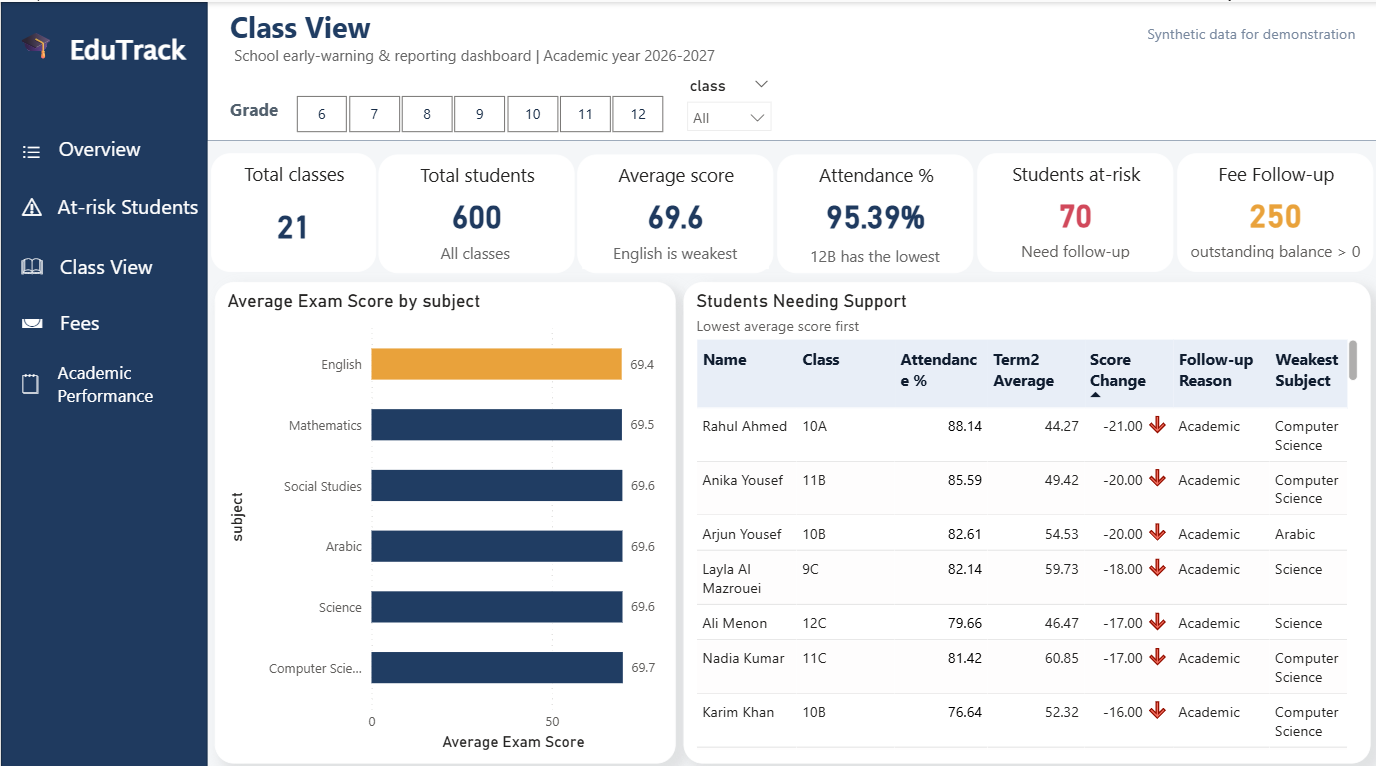

The dashboard page shown, as its layout file describes it:
{"tool":"powerbi","page":{"name":"class view","canvas":[1280,720],"ordinal":2},"visuals":[{"type":"shape","box":[192.1,0,1087.9,128.5],"z":0},{"type":"textbox","box":[58.8,22.5,137.5,52.5],"z":0,"group":"g4"},{"type":"textbox","box":[48.8,118.4,112.5,40],"z":0,"group":"g3"},{"type":"textbox","box":[47.6,172.5,187.5,38.8],"z":0,"group":"g1"},{"type":"textbox","box":[50.1,227.8,150,38.8],"z":0,"group":"g2"},{"type":"textbox","box":[49.8,280,62.5,45],"z":0,"group":"g5"},{"type":"textbox","box":[8.8,15,58.8,46.2],"z":1000,"group":"g4"},{"type":"textbox","box":[1061.6,15.3,218.4,36.2],"z":1000},{"type":"textbox","box":[0,124.6,58.8,33.8],"z":1000,"group":"g3"},{"type":"textbox","box":[8.8,170,50,52.5],"z":1000,"group":"g1"},{"type":"textbox","box":[12.6,227.8,42.5,43.8],"z":1000,"group":"g2"},{"type":"textbox","box":[12.3,270,53.8,57.5],"z":1000,"group":"g5"},{"type":"shape","box":[0,0,192.2,720.3],"z":2000},{"type":"group","id":"g1","title":"Group 1","box":[8.8,170,226.2,52.5],"z":3000},{"type":"group","id":"g2","title":"Group 2","box":[12.6,227.8,187.5,43.8],"z":4000},{"type":"group","id":"g3","title":"Group 3","box":[0,118.4,161.2,40],"z":5000},{"type":"group","id":"g4","title":"Group 4","box":[8.8,15,187.5,60],"z":6000},{"type":"group","id":"g5","title":"Group 5","box":[12.3,270,100,57.5],"z":7000},{"type":"slicer","fields":{"Values":["view_student_warning.grade"]},"box":[248.6,80.5,391.4,48],"z":8000},{"type":"textbox","box":[208,0,688,64],"z":9000},{"type":"textbox","box":[208,64,64,64],"z":10000},{"type":"actionButton","box":[12,117.7,138.1,39.6],"z":11000},{"type":"actionButton","box":[8.4,171.1,183.8,40.1],"z":12000},{"type":"actionButton","box":[9.7,279.7,132.2,40.3],"z":13000},{"type":"card","title":"Total classes","fields":{"Values":["students.Total Classes"]},"box":[195.3,140.7,153.5,110.5],"z":14000},{"type":"slicer","fields":{"Values":["students.class"]},"box":[628,63.6,98.5,63.6],"z":15000},{"type":"card","title":"Attendance %","fields":{"Values":["attendance.Attendance %"]},"box":[722.3,141.9,182.6,110.5],"z":15000,"group":"g10"},{"type":"card","title":"Students at-risk","fields":{"Values":["view_student_warning.class support needed"]},"box":[908.1,140.7,182.6,110.5],"z":16000},{"type":"card","title":"Average score","fields":{"Values":["exam_results.Average Exam Score"]},"box":[536.2,141.9,182.6,110.5],"z":17000,"group":"g8"},{"type":"clusteredBarChart","fields":{"Category":["exam_results.subject"],"Y":["exam_results.Average Exam Score"]},"box":[198.8,260.5,429.1,447.7],"z":17000},{"type":"card","title":"Fee Follow-up","fields":{"Values":["view_student_warning.Fee Follow-up Students"]},"box":[1094.2,140.7,182.6,110.5],"z":18000},{"type":"card","title":"Total students","fields":{"Values":["students.Total students"]},"box":[351.2,141.9,182.6,110.5],"z":18000,"group":"g7"},{"type":"tableEx","title":"Students Needing Support","fields":{"Values":["students.name","students.class","view_student_warning.attendance_perc","view_student_warning.term2_avg","view_student_warning.score_change","view_student_warning.Class Follow-up reason","exam_results.Student Weakest Subject"]},"box":[634.9,260.5,639.5,447.7],"z":19000},{"type":"group","id":"g6","title":"Group 7","box":[722.3,141.9,182.6,110.5],"z":20000},{"type":"group","id":"g7","title":"Group 6","box":[351.2,141.9,182.6,110.5],"z":21000},{"type":"group","id":"g8","title":"Group 8","box":[536.2,141.9,182.6,110.5],"z":22000},{"type":"textbox","box":[11.6,333.7,38.4,46.5],"z":22000,"group":"g9"},{"type":"card","fields":{"Values":["exam_results.weakest subject"]},"box":[540.9,222.1,173.3,26.7],"z":23000,"group":"g8"},{"type":"group","id":"g9","title":"Group 6","box":[11.6,327.9,168.6,57],"z":23000},{"type":"textbox","box":[47.6,327.9,132.6,57],"z":23000,"group":"g9"},{"type":"card","fields":{"Values":["attendance.class attendance insight"]},"box":[729.3,222.1,168.6,26.7],"z":24000,"group":"g10"},{"type":"actionButton","box":[14,337.2,147.7,39.5],"z":24000},{"type":"card","fields":{"Values":["students.selected class"]},"box":[366.3,222.1,150,26.7],"z":25000,"group":"g7"},{"type":"group","id":"g10","title":"Group 9","box":[722.3,141.9,182.6,110.5],"z":25005,"group":"g6"}]}

Visuals, with their boxes on the page's 1280x720 design canvas (x1, y1, x2, y2). These are canvas units, not pixel positions in the 1376x766 screenshot, which may show the page scaled, cropped or inside an application window:
shape: 192,0,1280,128
textbox: 59,22,196,75
textbox: 49,118,161,158
textbox: 48,172,235,211
textbox: 50,228,200,267
textbox: 50,280,112,325
textbox: 9,15,68,61
textbox: 1062,15,1280,52
textbox: 0,125,59,158
textbox: 9,170,59,222
textbox: 13,228,55,272
textbox: 12,270,66,328
shape: 0,0,192,720
"Group 1" group: 9,170,235,222
"Group 2" group: 13,228,200,272
"Group 3" group: 0,118,161,158
"Group 4" group: 9,15,196,75
"Group 5" group: 12,270,112,328
slicer - view_student_warning.grade: 249,80,640,128
textbox: 208,0,896,64
textbox: 208,64,272,128
actionButton: 12,118,150,157
actionButton: 8,171,192,211
actionButton: 10,280,142,320
"Total classes" card: 195,141,349,251
slicer - students.class: 628,64,726,127
"Attendance %" card: 722,142,905,252
"Students at-risk" card: 908,141,1091,251
"Average score" card: 536,142,719,252
clusteredBarChart - exam_results.subject x exam_results.Average Exam Score: 199,260,628,708
"Fee Follow-up" card: 1094,141,1277,251
"Total students" card: 351,142,534,252
"Students Needing Support" tableEx: 635,260,1274,708
"Group 7" group: 722,142,905,252
"Group 6" group: 351,142,534,252
"Group 8" group: 536,142,719,252
textbox: 12,334,50,380
card - exam_results.weakest subject: 541,222,714,249
"Group 6" group: 12,328,180,385
textbox: 48,328,180,385
card - attendance.class attendance insight: 729,222,898,249
actionButton: 14,337,162,377
card - students.selected class: 366,222,516,249
"Group 9" group: 722,142,905,252
